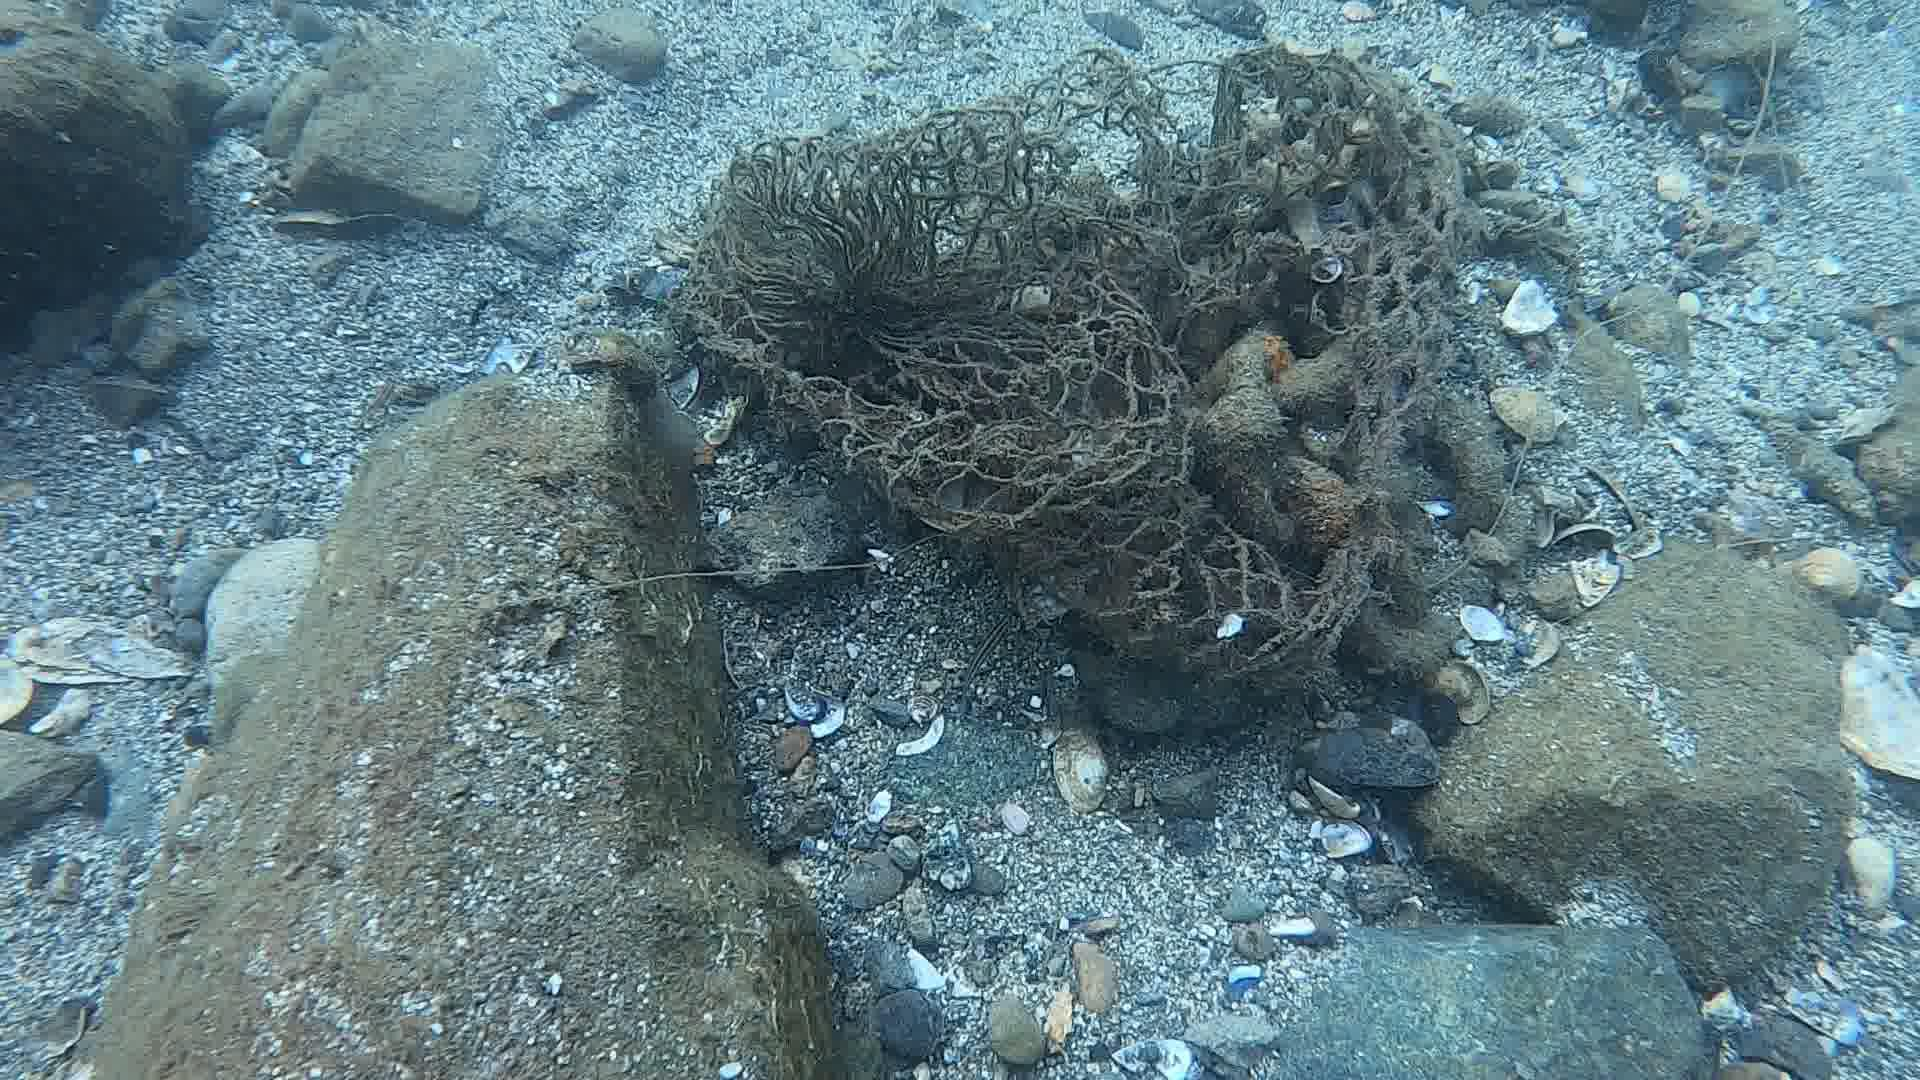fish net: (673, 44, 1466, 675)
